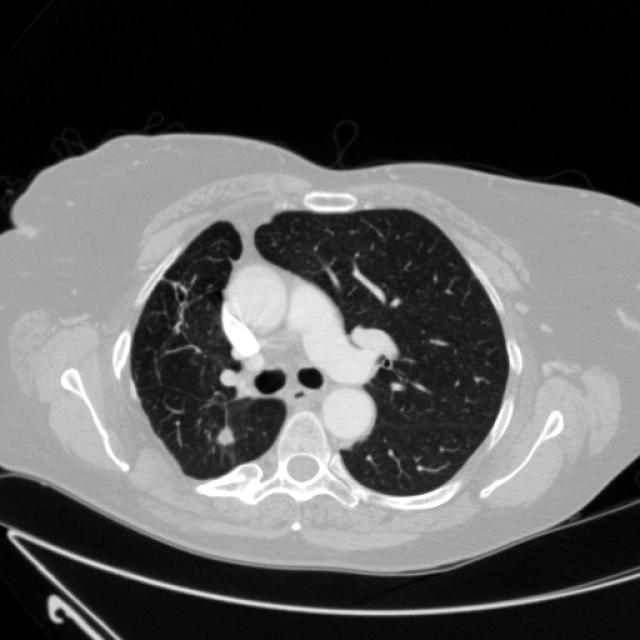nodule: (205, 416, 245, 456)
